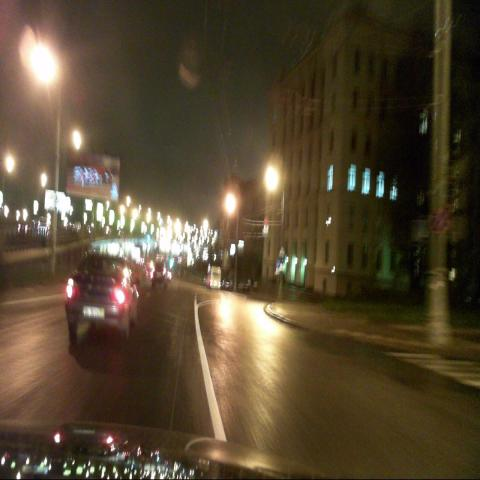3_27: (429, 204, 446, 236)
